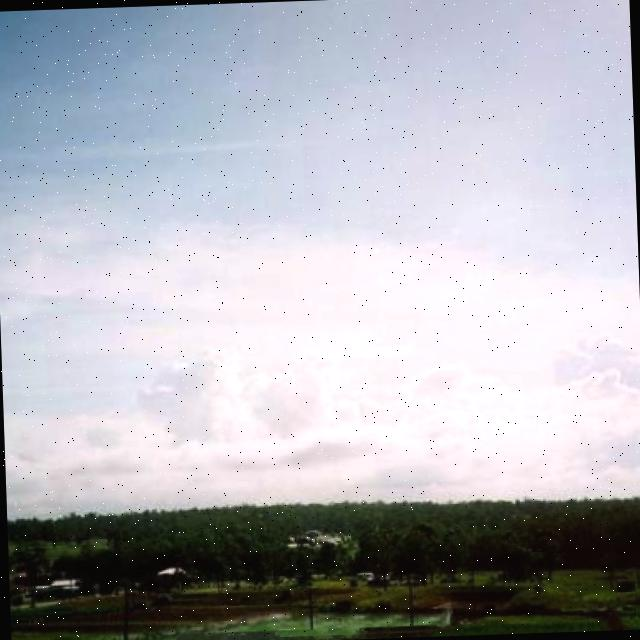Cs: (1, 82, 640, 456)
